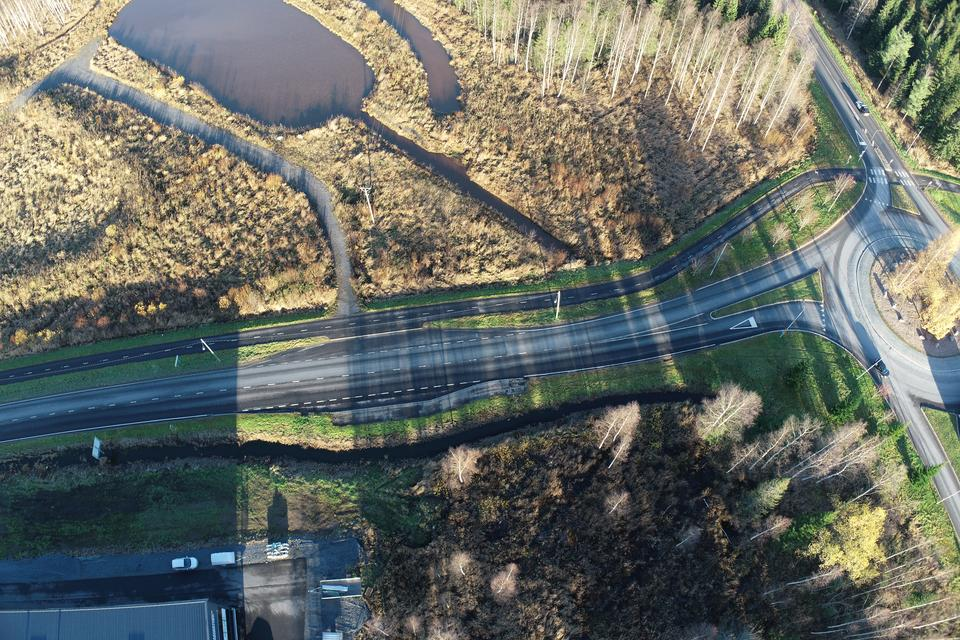intersection: (314, 264, 387, 439), (848, 160, 931, 194)
roundabout: (794, 198, 960, 409)
